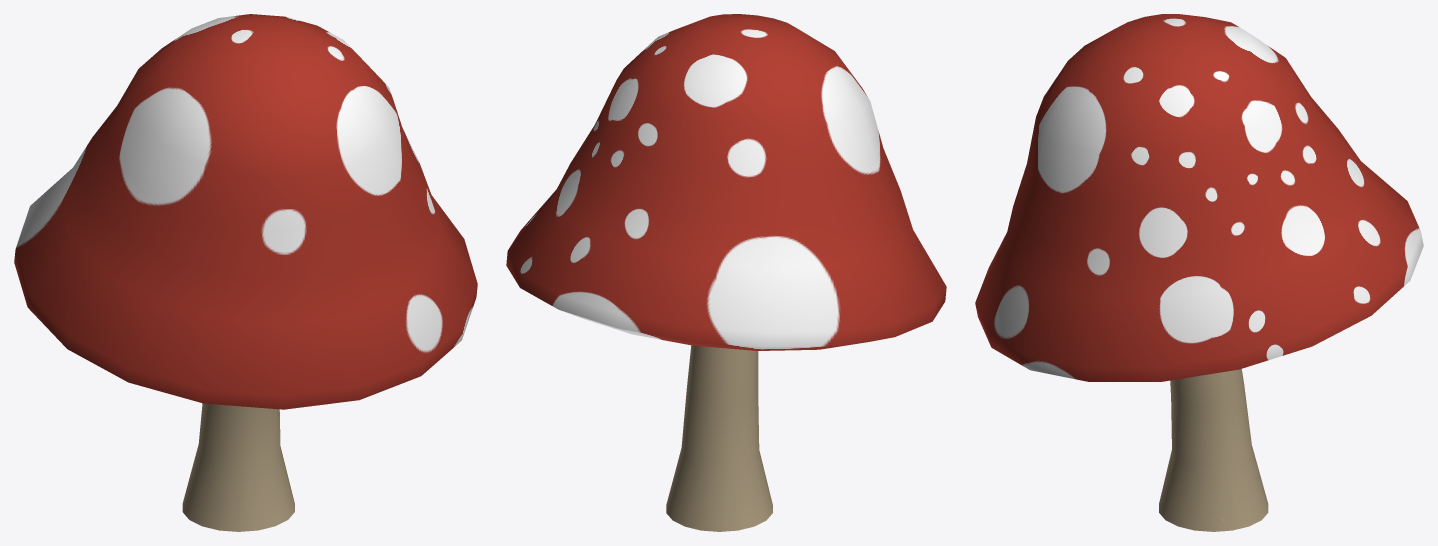
File: Mushroom.fbx
3 renders of one model, left to right at view 1: azimuth 30°, elevation 25°; view 2: azimuth 150°, elevation 25°; view 3: azimuth 270°, elevation 25°, orthographic. The views are drawn at different scales.
Parts seen in each view (by area): view 1: Mushroom Head, Mushroom Stem; view 2: Mushroom Head, Mushroom Stem; view 3: Mushroom Head, Mushroom Stem.
Part boxes in pixels (bbox=[...]): Mushroom Head: bbox=[14, 14, 477, 409]; Mushroom Stem: bbox=[182, 403, 294, 531]; Mushroom Head: bbox=[506, 14, 946, 350]; Mushroom Stem: bbox=[666, 345, 772, 531]; Mushroom Head: bbox=[975, 14, 1423, 381]; Mushroom Stem: bbox=[1159, 369, 1268, 531].
Bounding box in the file's own units: 13.79 × 16.36 × 13.87.
Materials: 1 (1 with a texture image).
